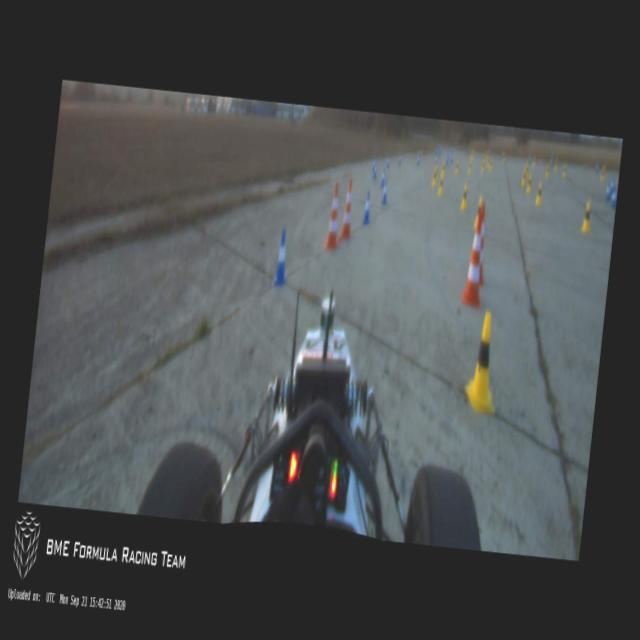blue_cone: (272, 229, 292, 287), (361, 190, 373, 226), (381, 179, 388, 205), (379, 166, 386, 187), (604, 183, 611, 200), (611, 190, 617, 208), (372, 164, 378, 179), (398, 152, 402, 166), (386, 156, 390, 168), (372, 157, 375, 170), (416, 154, 419, 165)
large_orange_cone: (460, 214, 489, 308), (472, 204, 491, 286), (324, 182, 343, 250), (339, 177, 356, 240)
yellow_cone: (462, 308, 506, 416), (580, 200, 593, 233), (472, 195, 482, 229), (459, 183, 469, 211), (535, 181, 543, 205), (430, 164, 438, 187), (526, 174, 532, 192), (520, 169, 526, 186), (440, 160, 446, 177), (438, 176, 443, 194)
